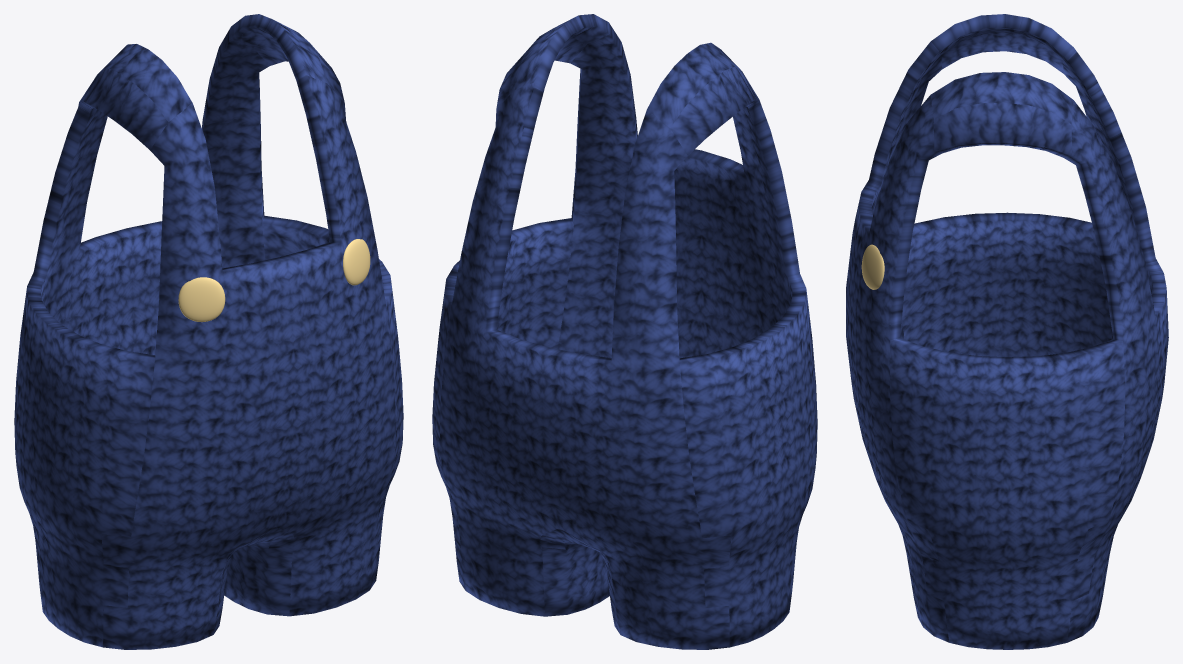
File: gato.glb
3 renders of one model, left to right at view 1: azimuth 30°, elevation 25°; view 2: azimuth 150°, elevation 25°; view 3: azimuth 270°, elevation 25°, orthographic. The views are drawn at different scales.
Visible parts, largest first — view 1: coth; view 2: coth; view 3: coth.
Part boxes in pixels (bbox=[...]): coth: bbox=[14, 14, 403, 649]; coth: bbox=[432, 14, 817, 649]; coth: bbox=[846, 14, 1168, 649].
Size of the model in its own units: 0.6944 by 1.1 by 0.5925.
2 materials, 2 textured.
